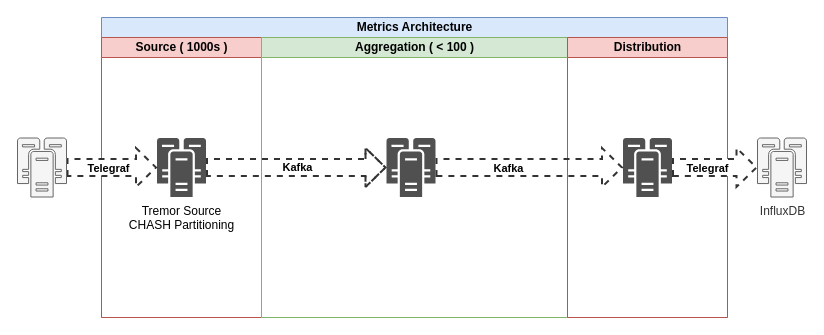
Some shapes in this 824 by 335 pixel diagram are drawn without their labels. The centre of each missing label's shape, as x and y in pixels:
"Aggregation Tier" goes at [410,167].
"Tremor Distribution App" goes at [647,167].
"WF Apps" goes at [41,167].
